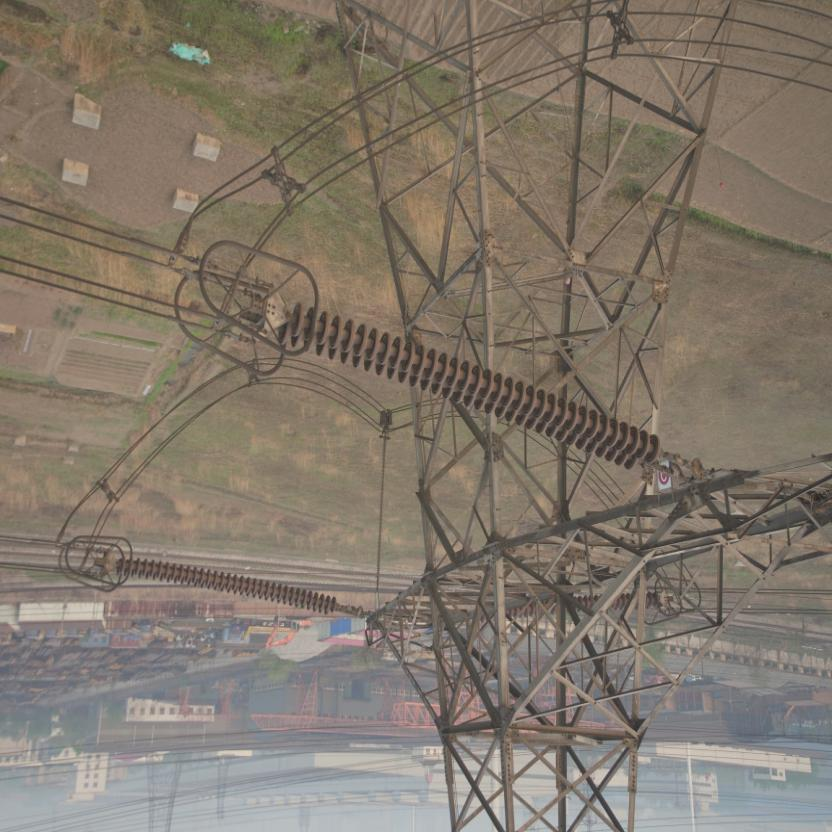insulator: (275, 300, 680, 480), (114, 551, 352, 626)
